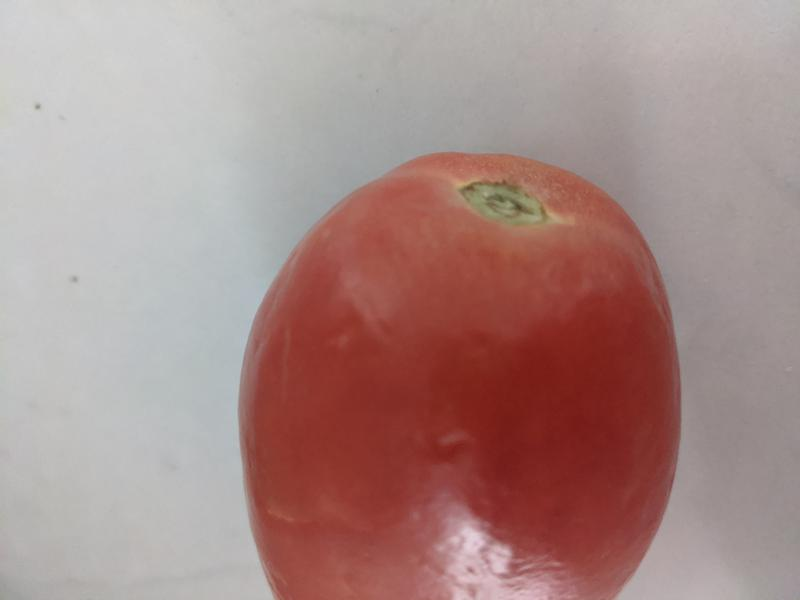tomato: (238, 152, 683, 600)
